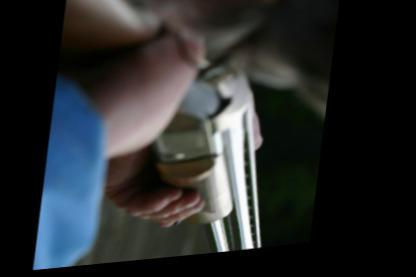pistol: (131, 84, 296, 263)
